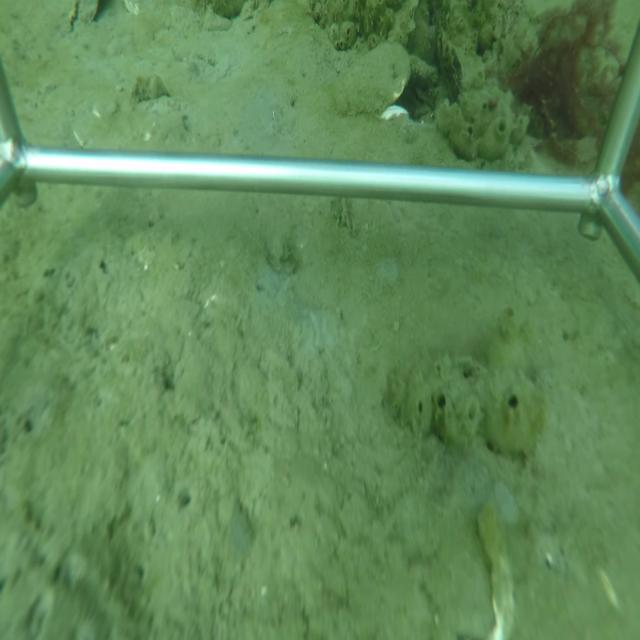Oyster-Indeterminate: (332, 38, 413, 120)
